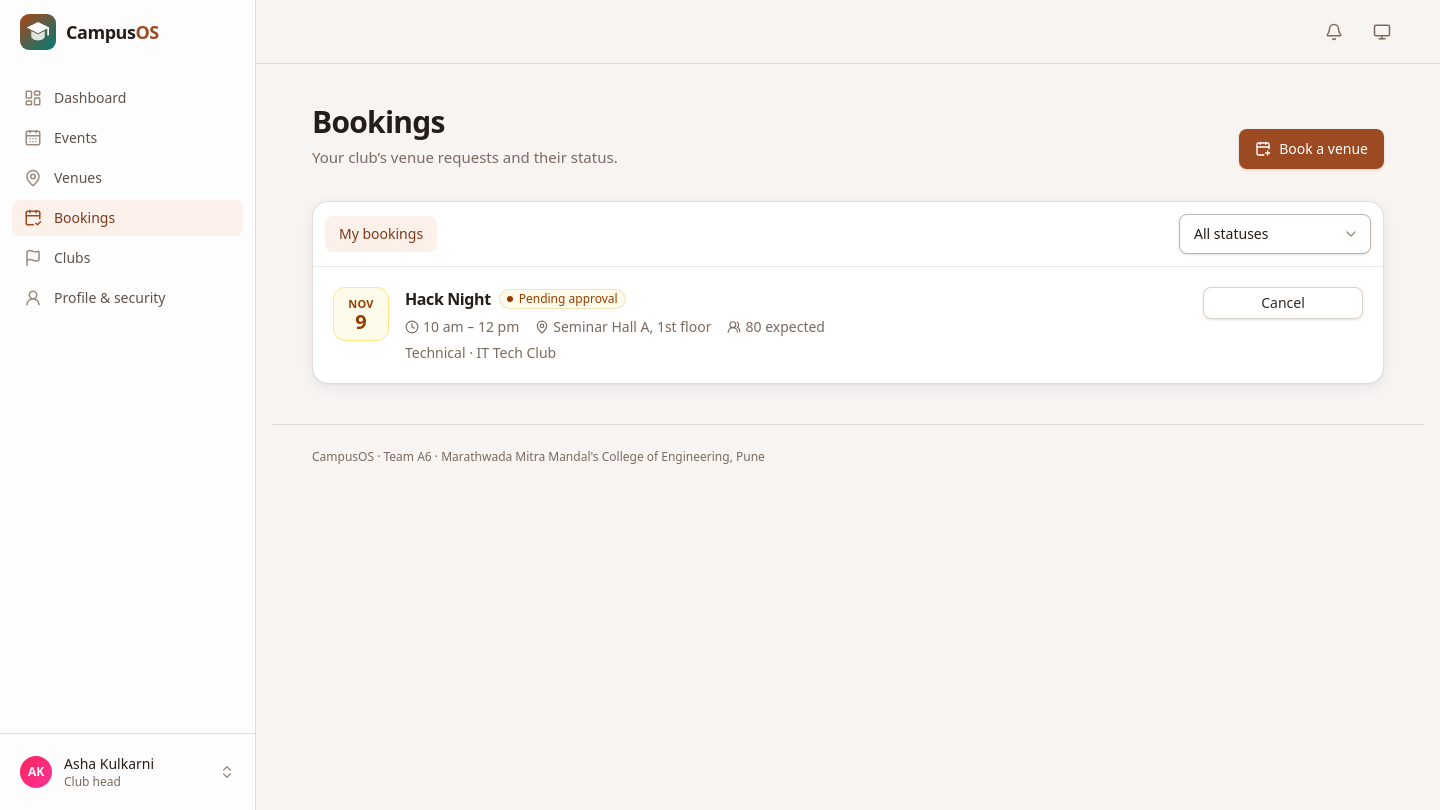
Test case: bookings list and decisions › shows a club head their requests, with rejection reasons, and lets them cancel
Check: the heading "Hack Night" is shown, box [405, 286, 491, 310]
Check: the text "Pending approval" is shown, box [499, 288, 626, 308]
Click the button "Cancel": (1283, 302) [1203, 286, 1363, 318]
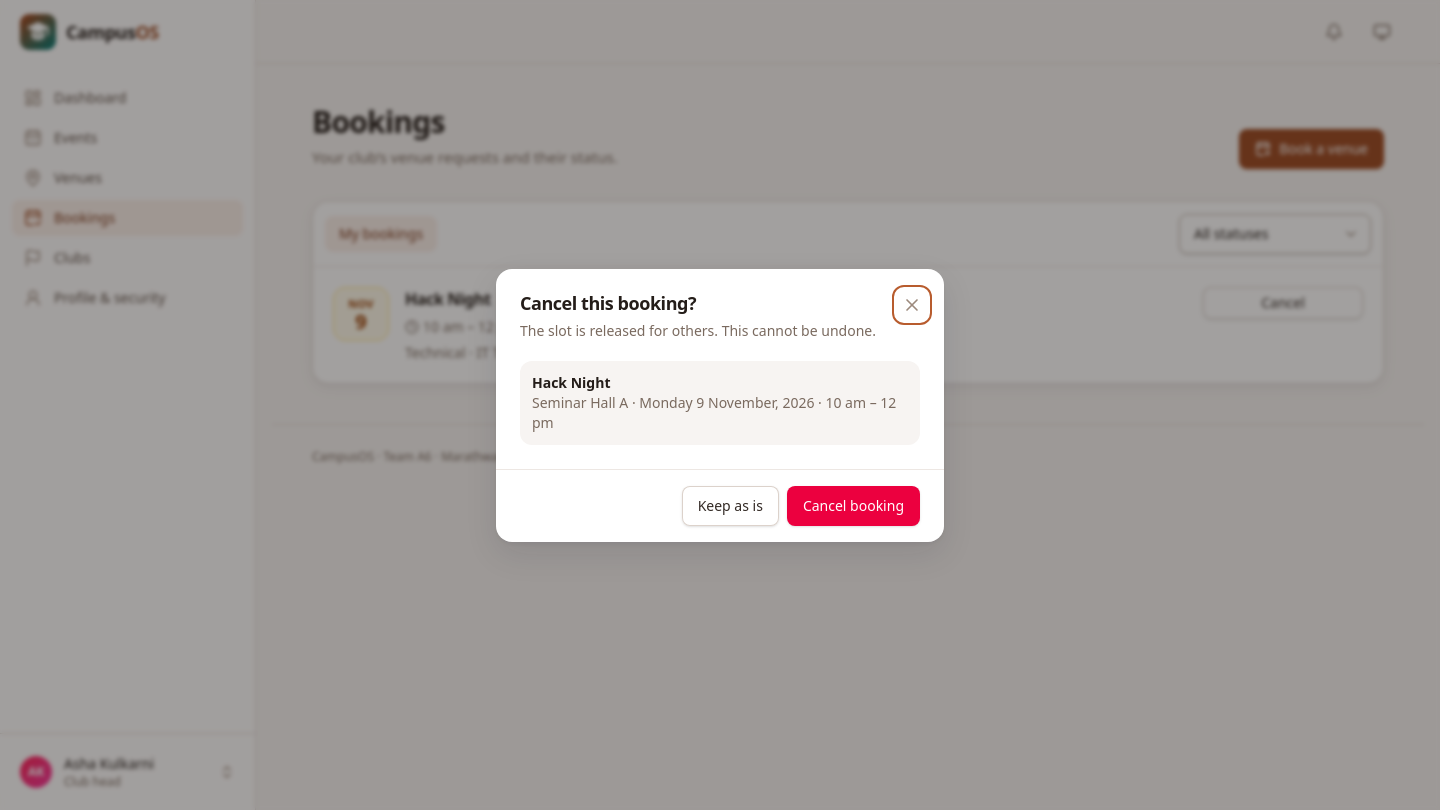
Click the button "Cancel booking": (853, 506) [787, 486, 920, 526]
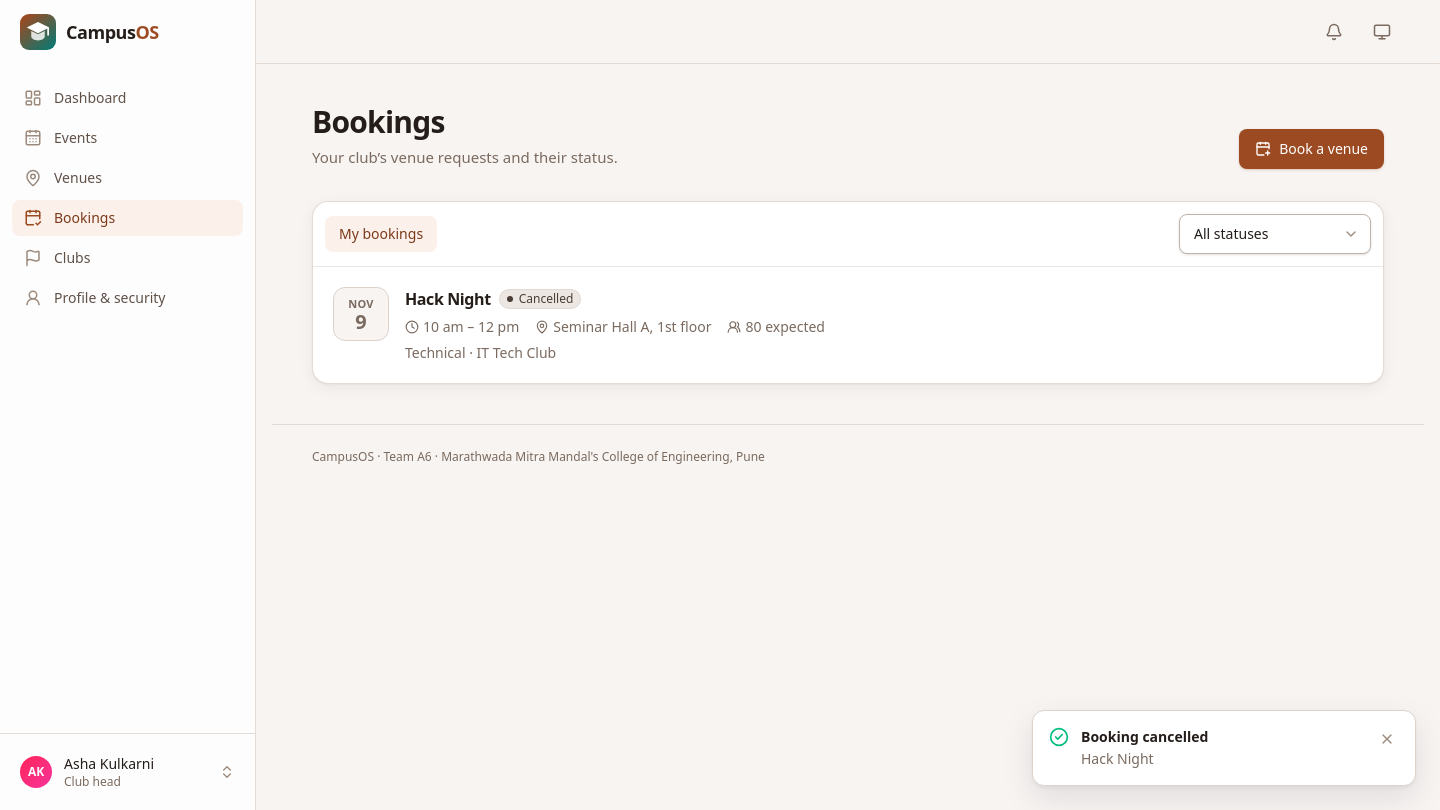
Check: the text "Booking cancelled" is shown, box [1081, 727, 1208, 746]
Check: the text "Cancelled" is shown, box [499, 288, 581, 308]
Select "Rejected" in the dropdown named "Filter by status": (1275, 234) [1179, 214, 1371, 254]
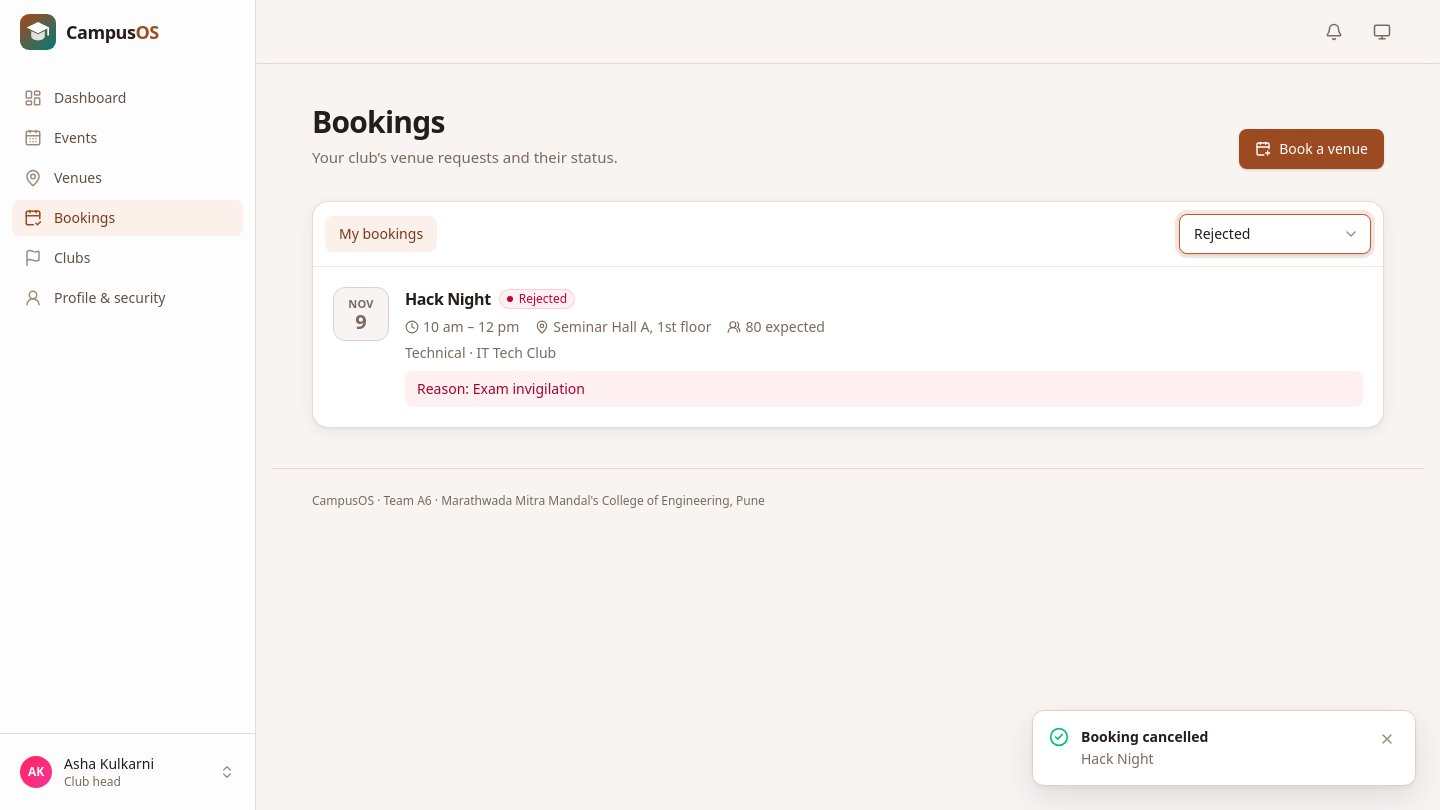
Check: the text "Reason: Exam invigilation" is shown, box [405, 370, 1363, 406]
